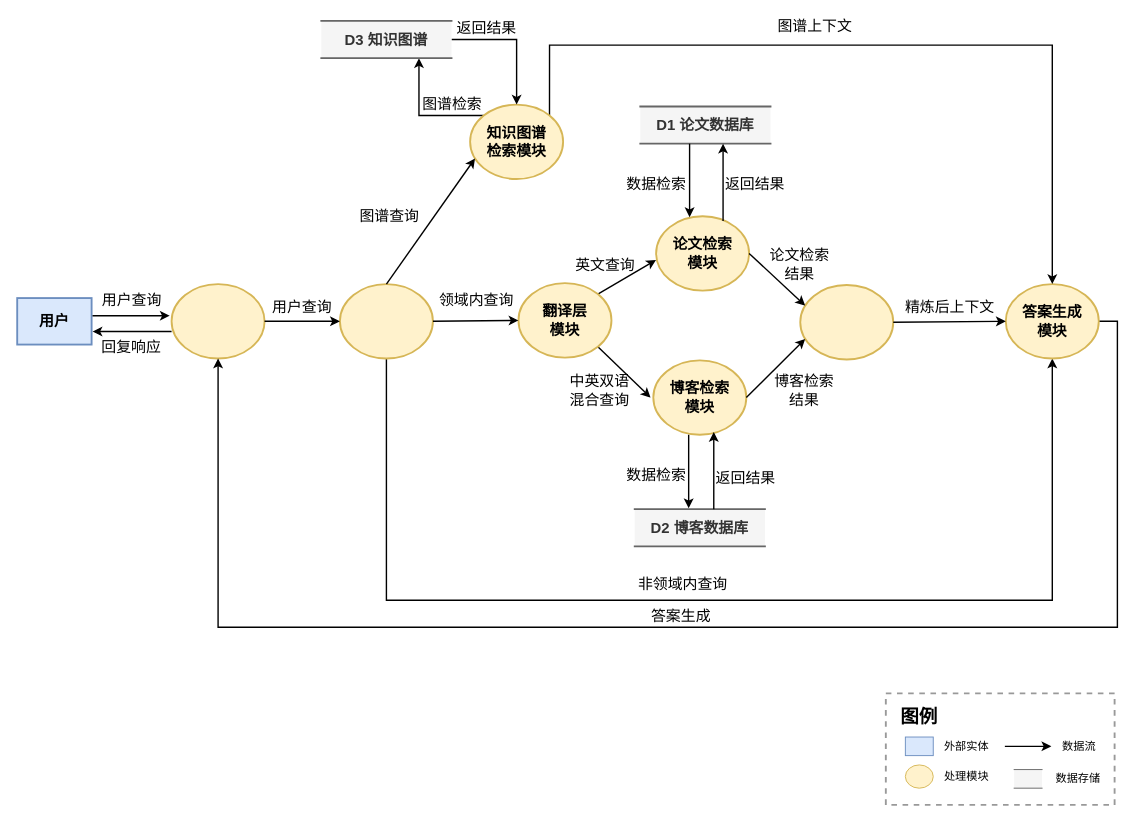
Image size: 1141x821. Some labels were removed from this diagram. Each missing label, with the centre of its shape:
前端交互 模块: [217,321]
混合路由 模块: [386,321]
结果精炼 模块: [846,322]
